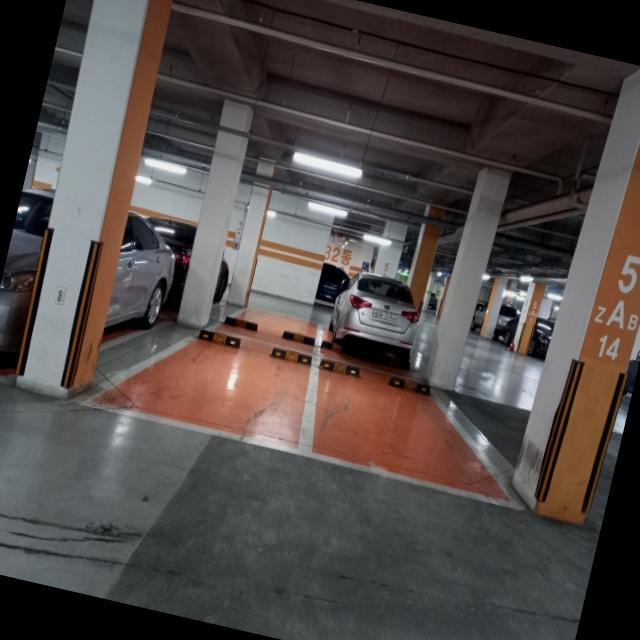free: (308, 359, 518, 511), (94, 331, 316, 455)
